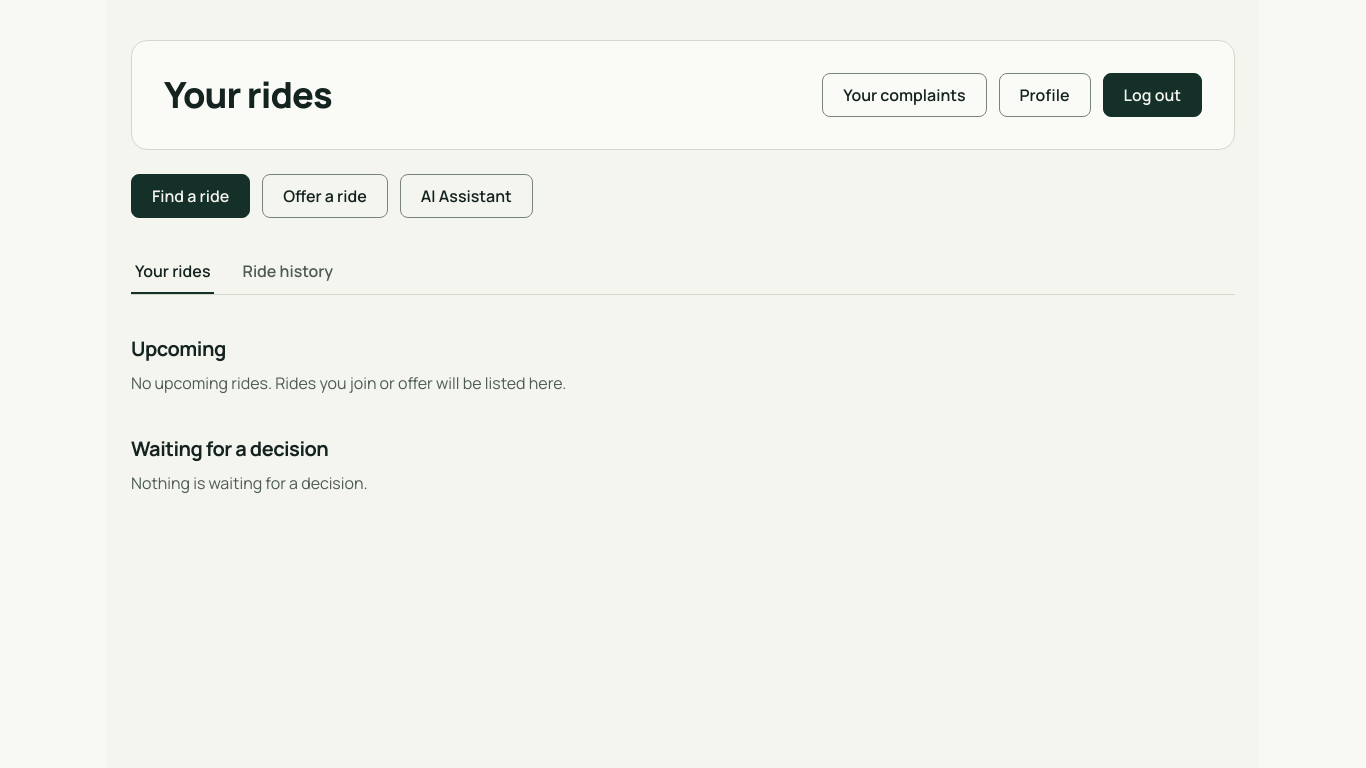
it: StudentHome › shows previous requests and their status history in Ride history
Click the tab "Ride history".
click(288, 272)  # box x1=238 y1=250 x2=337 y2=294
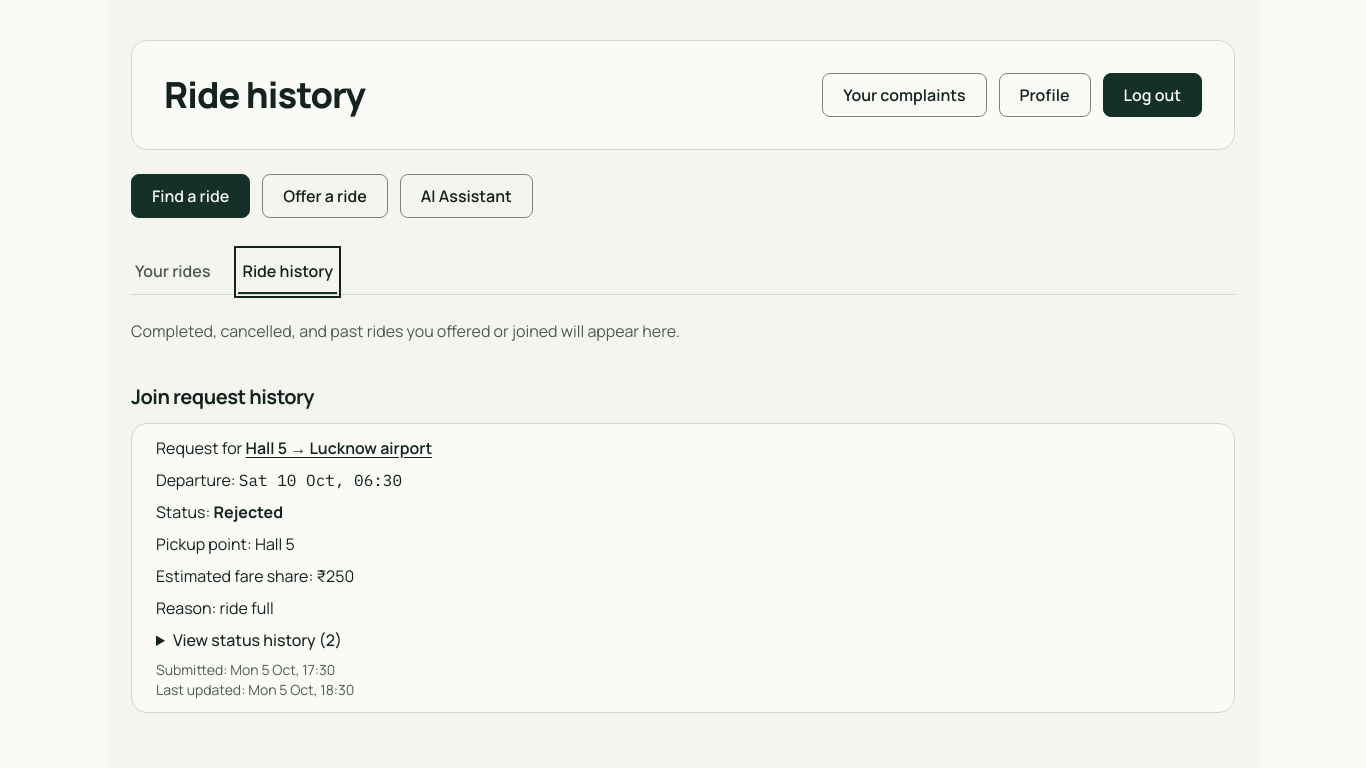
Check: the link "Hall 5 → Lucknow airport" is shown, box x1=246 y1=437 x2=432 y2=459
Check: the text "Status:" is shown, box x1=156 y1=501 x2=214 y2=523
Check: the text "Rejected" is shown 2 times
